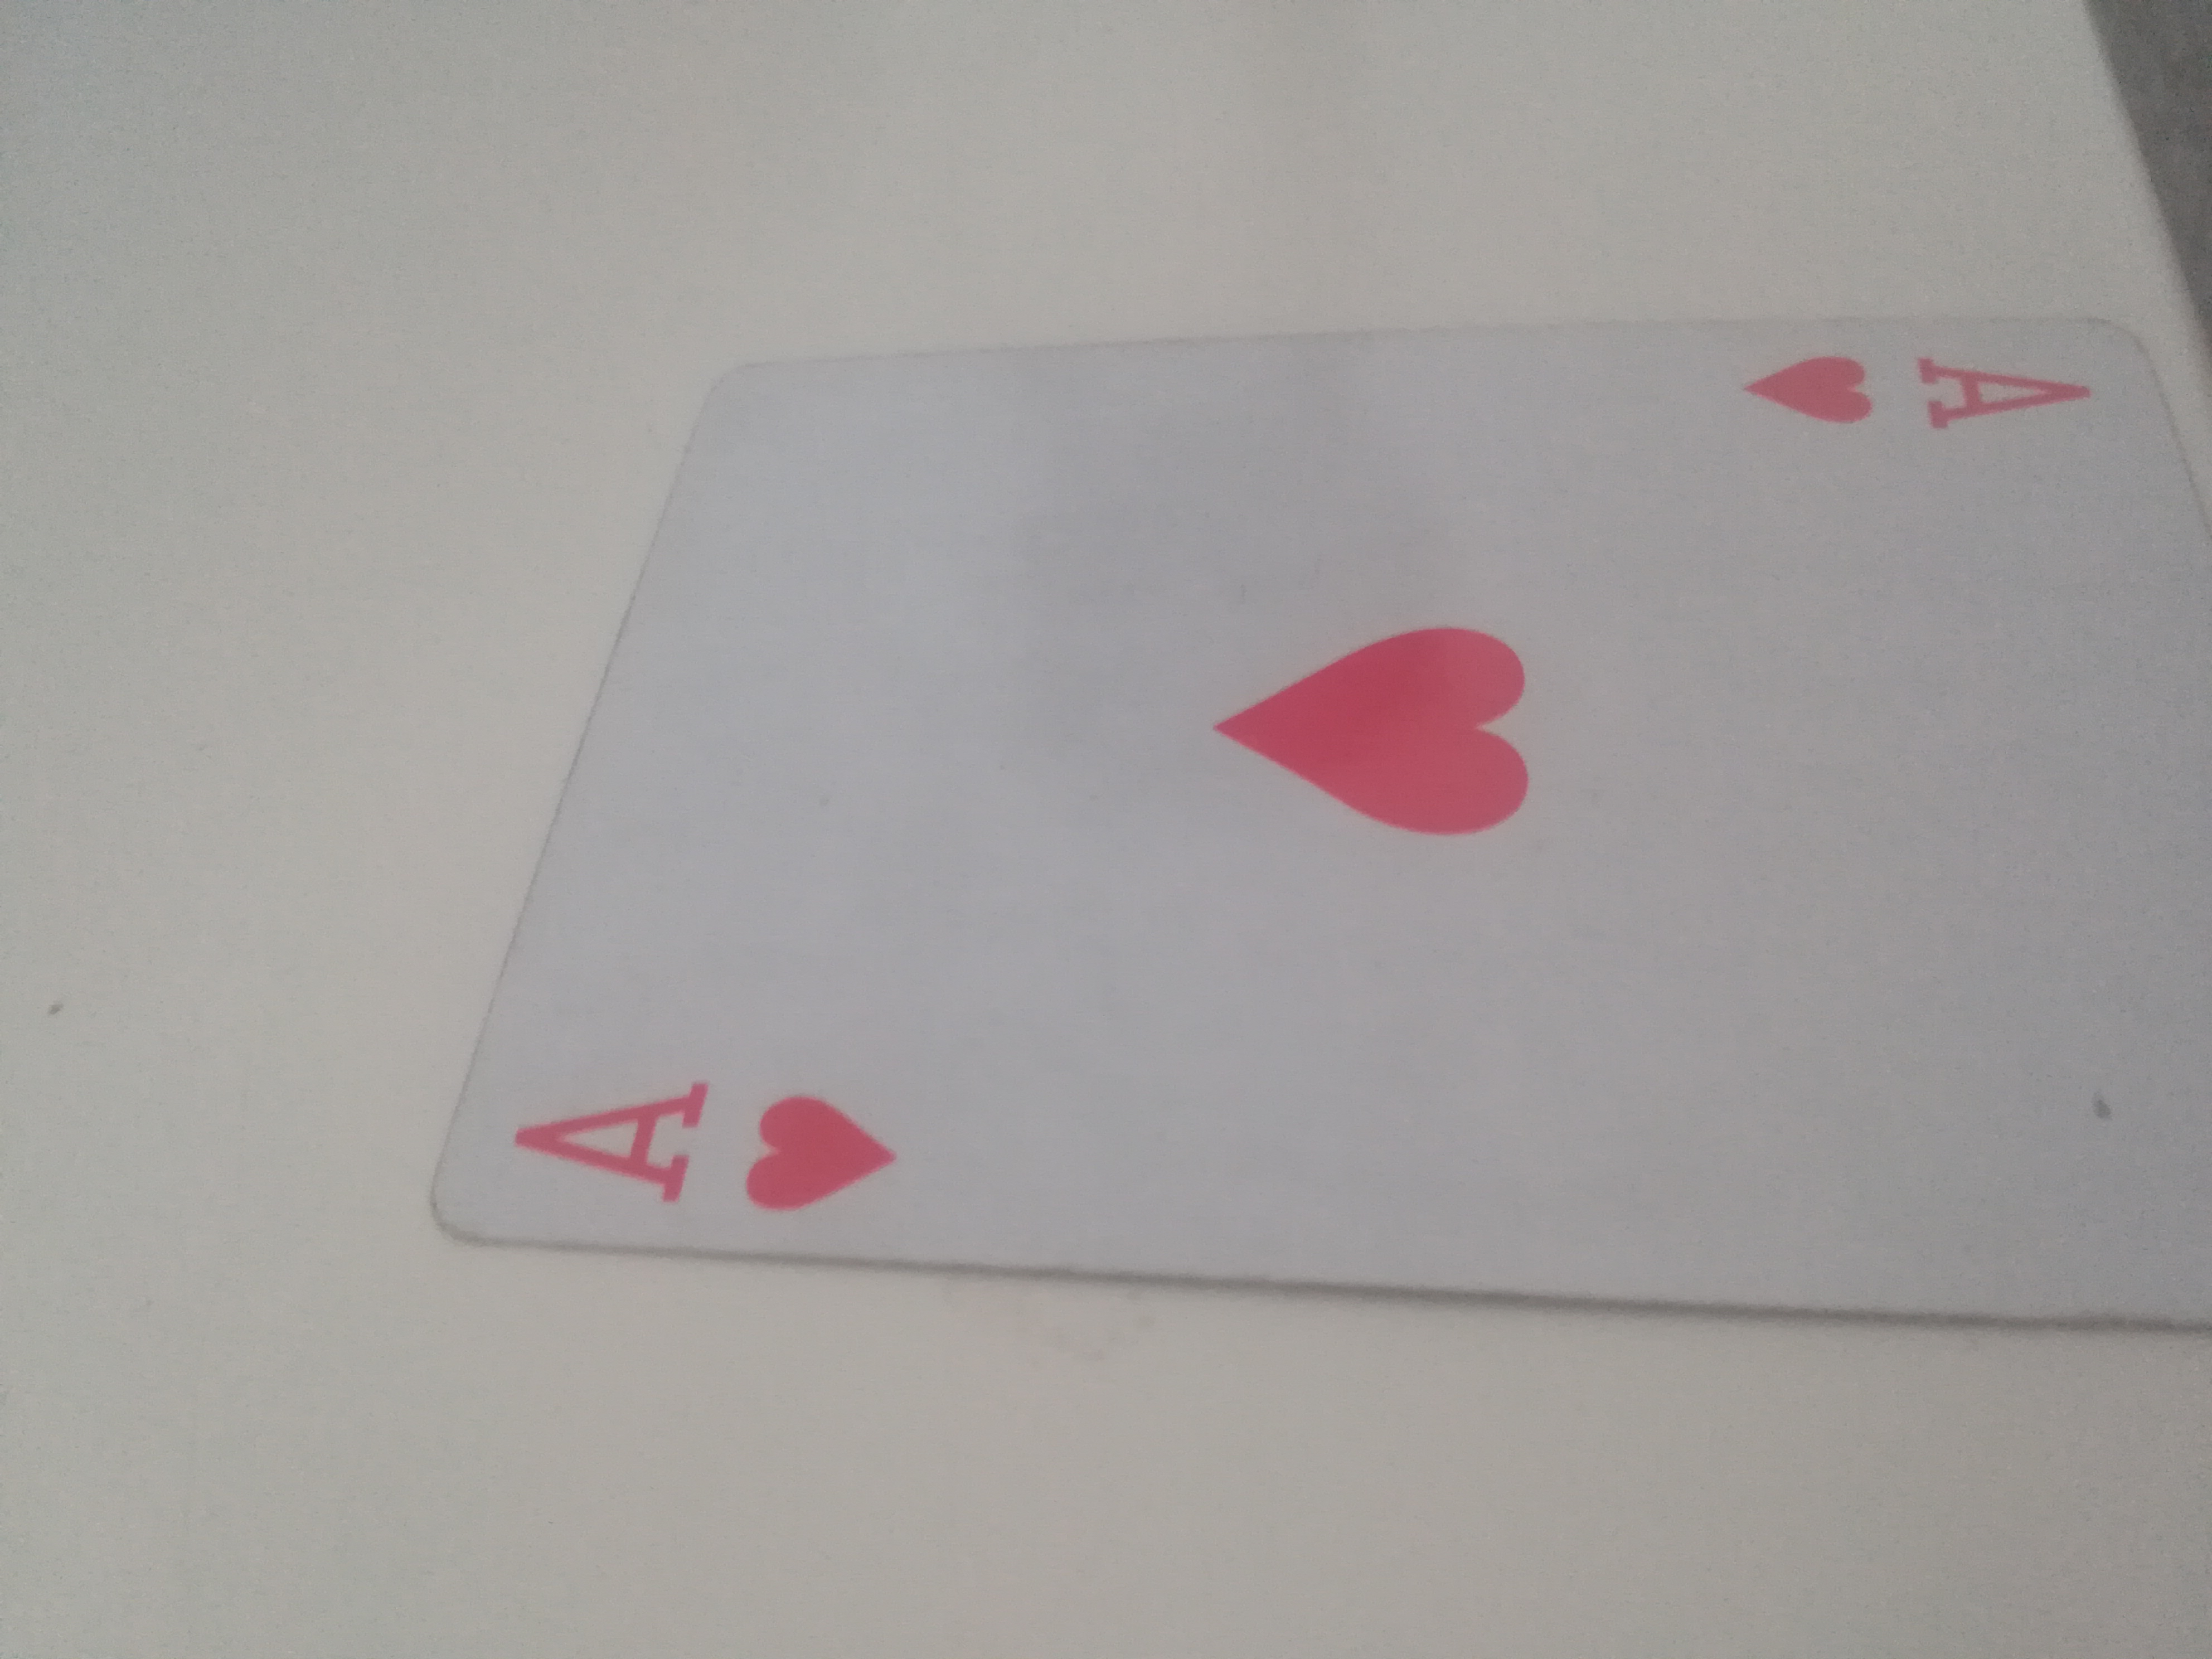AH: (430, 310, 2212, 1293)
